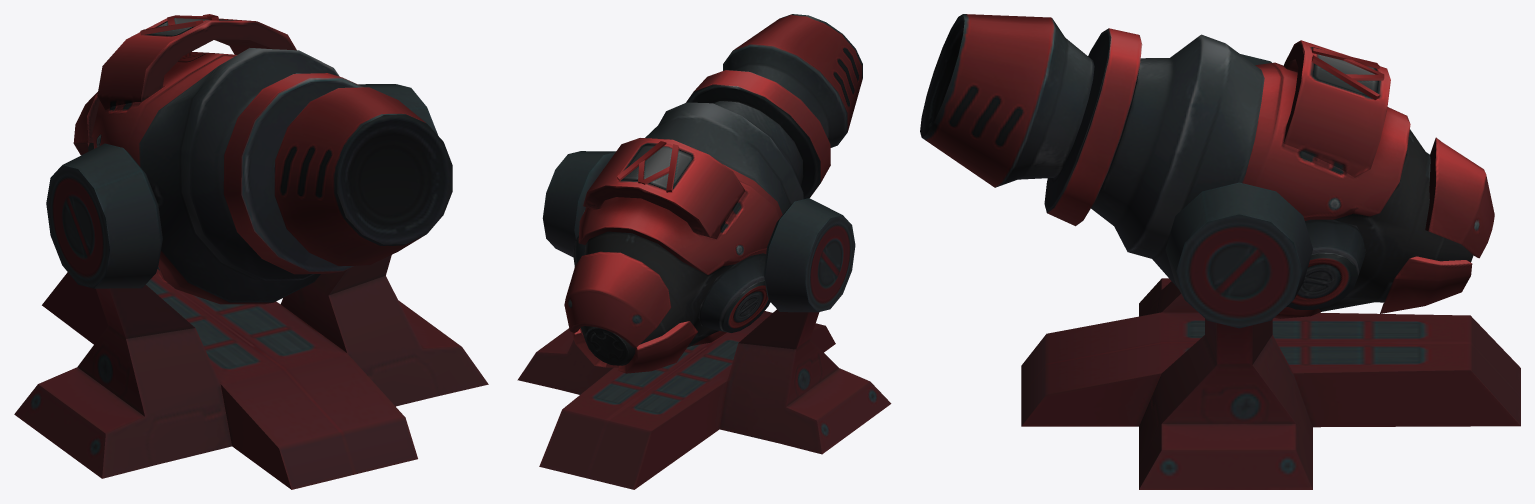
File: Cannon_02.FBX
The picture shows the model from 3 angles, left to right: view 1: azimuth 30°, elevation 25°; view 2: azimuth 150°, elevation 25°; view 3: azimuth 270°, elevation 25°; orthographic projection. The views are drawn at different scales.
Parts seen in each view (by area): view 1: Base, Turret; view 2: Turret, Base; view 3: Turret, Base.
Boxes of the visible parts, x1,y1,x2,y2 form: Base: (14,84,488,489); Turret: (73,14,452,304); Turret: (564,14,862,373); Base: (517,151,891,489); Turret: (920,14,1494,318); Base: (1021,54,1520,489).
Size of the model in its own units: 125 by 118 by 171.
1 material, 1 textured.
